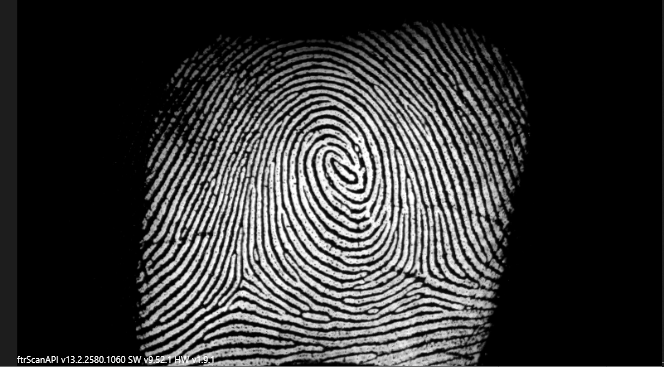nucelo: (315, 146, 369, 193)
verticilo: (227, 269, 263, 303), (398, 266, 436, 293)
